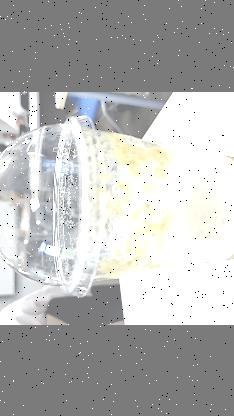Others: (0, 114, 234, 298), (0, 114, 108, 296)
